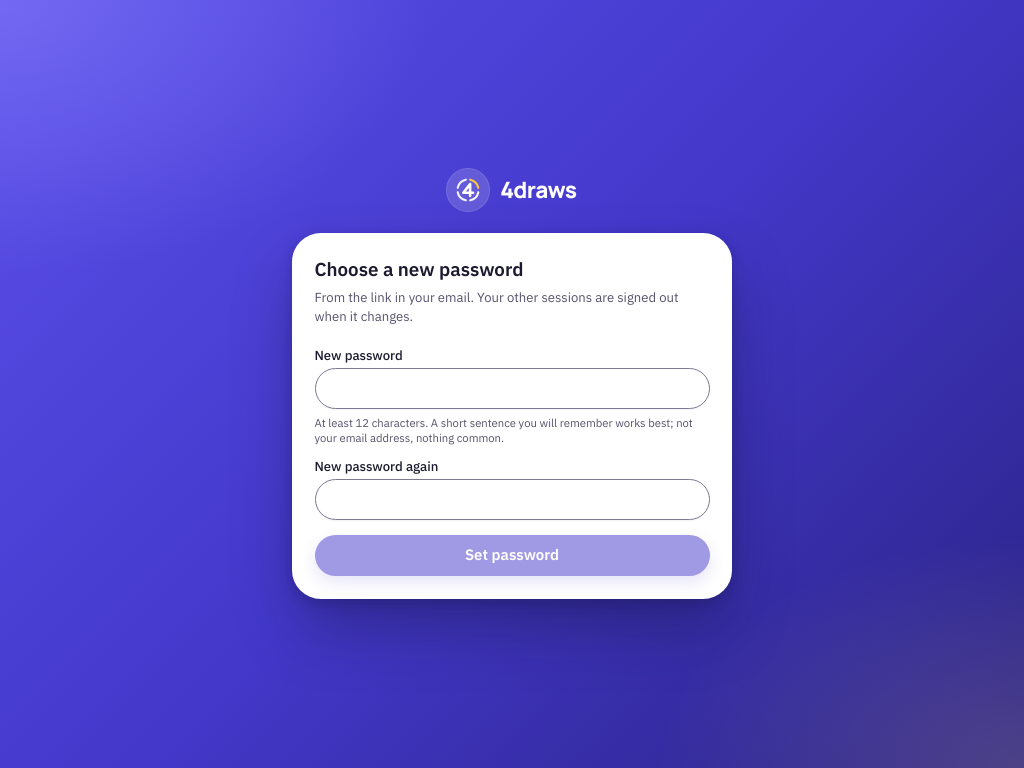
reset password page › sets the password from the link’s token, then sends the member to sign in
The width and height of the screenshot is (1024, 768).
Later steps or results of the test are not shown.
Type "a brand new long password" into the password field labelled "New password" at (512, 389), box [314, 368, 710, 409]
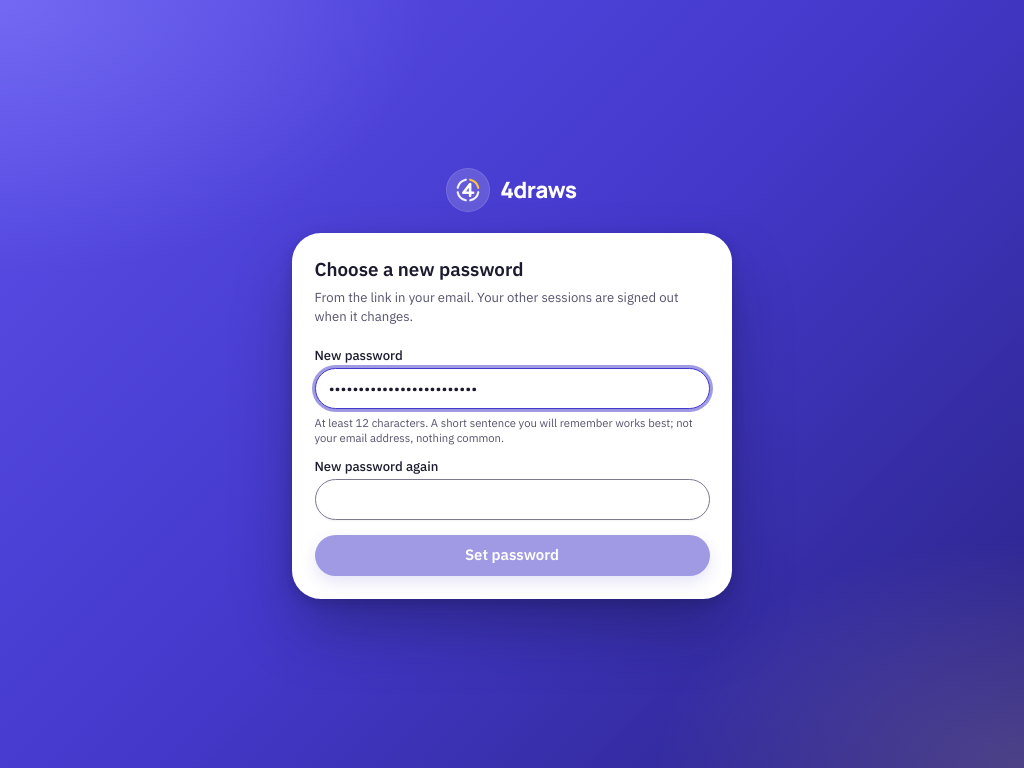
Type "a brand new long passwor" into the password field labelled "New password again" at (512, 499), box [314, 479, 710, 520]
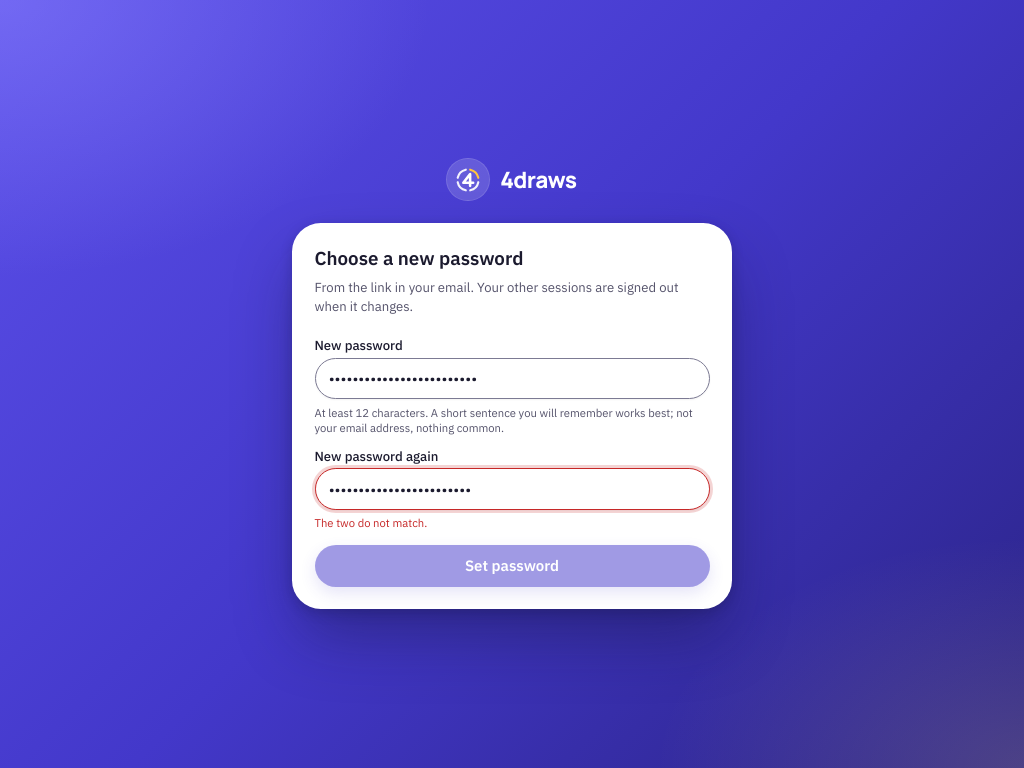
Check: the button "Set password" is disabled, box [314, 545, 710, 587]
Type "d" into the password field labelled "New password again" at (512, 489), box [314, 468, 710, 510]
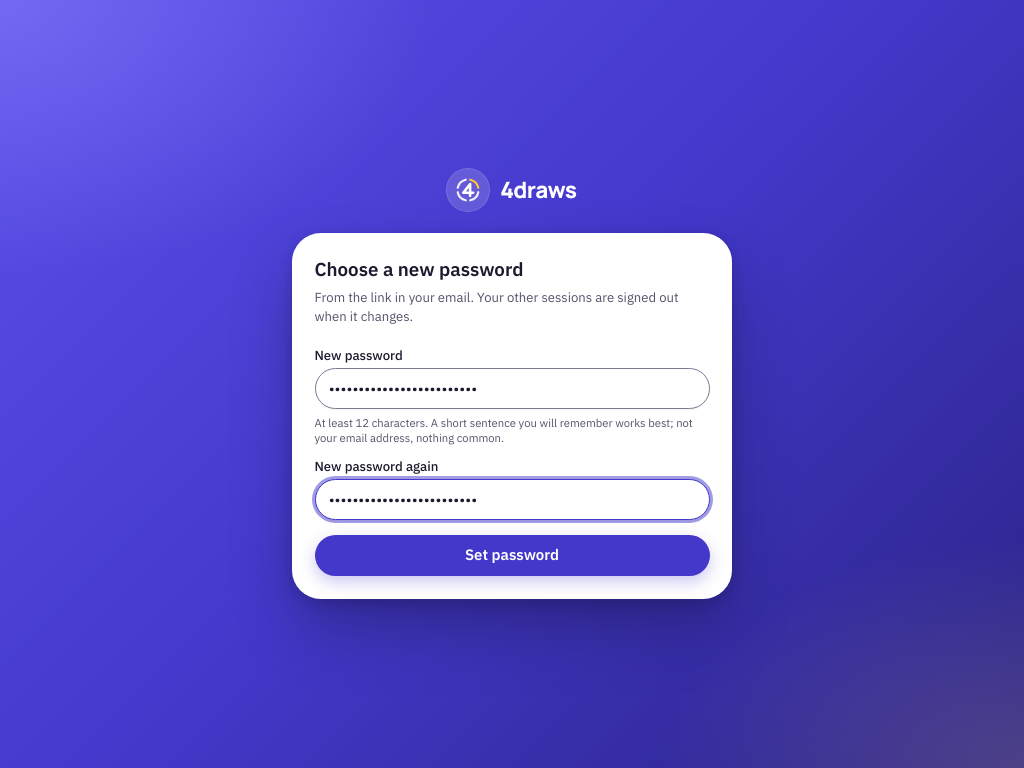
Click the button "Set password" at (512, 556), box [314, 535, 710, 576]
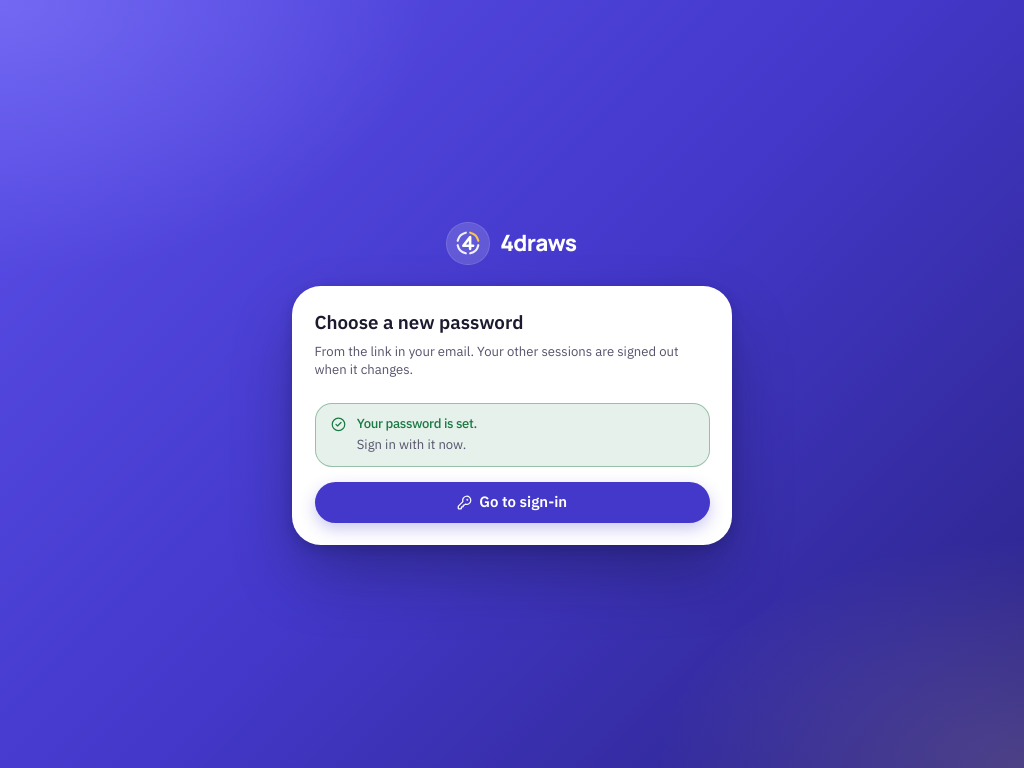
Check: the message shows "Your password is set.", box [357, 415, 477, 432]
